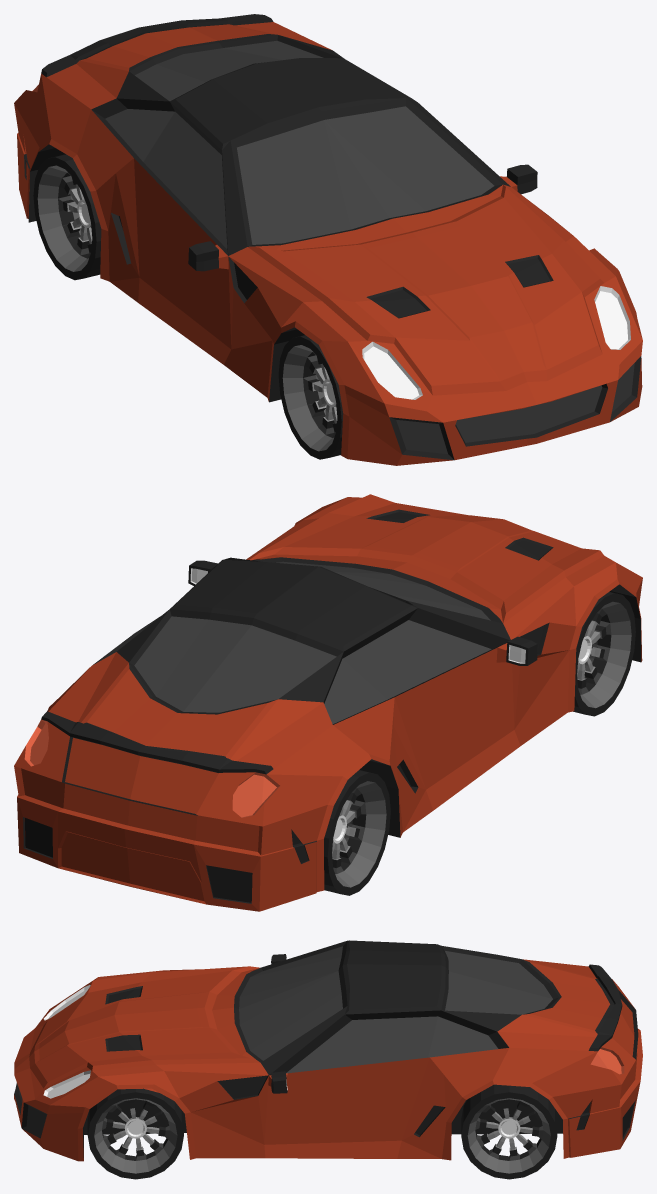
Rendered from ferrari599gto.fbx.
3 renders of one model, top to bottom at view 1: azimuth 30°, elevation 25°; view 2: azimuth 150°, elevation 25°; view 3: azimuth 270°, elevation 25°, orthographic. The views are drawn at different scales.
Parts seen in each view (by area): view 1: RedBody, BackRight, FrontRight; view 2: RedBody, BackRight, FrontRight; view 3: RedBody, BackLeft, FrontLeft.
Boxes of the visible parts, x1,y1,x2,y2 form: RedBody: [14, 14, 642, 465]; BackRight: [33, 154, 101, 280]; FrontRight: [278, 335, 343, 459]; RedBody: [14, 494, 642, 911]; BackRight: [324, 770, 390, 895]; FrontRight: [573, 591, 635, 716]; RedBody: [14, 940, 642, 1161]; BackLeft: [461, 1084, 557, 1179]; FrontLeft: [87, 1088, 183, 1179].
Size of the model in its own units: 2.21 by 4.64 by 1.31.
